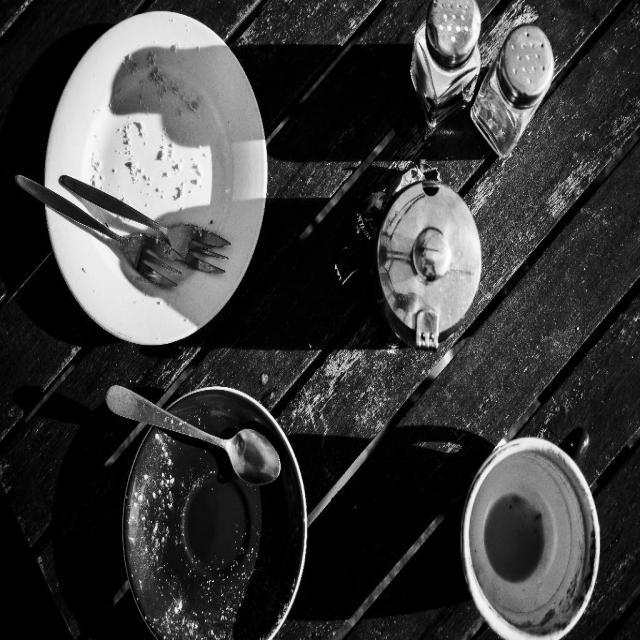ceramic plate: (51, 8, 266, 324)
